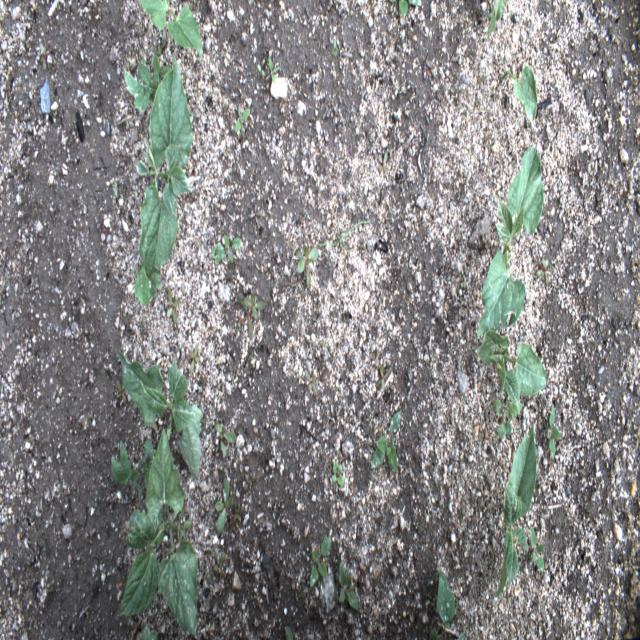crop: (114, 419, 198, 636), (132, 51, 198, 308), (478, 146, 544, 334), (115, 348, 204, 482), (497, 418, 538, 602), (475, 336, 551, 423), (138, 2, 204, 57), (500, 64, 539, 124)
weed: (122, 55, 169, 116), (371, 412, 404, 479), (109, 437, 143, 499), (320, 217, 370, 251), (436, 565, 458, 639), (291, 244, 322, 293), (237, 286, 264, 342), (309, 535, 334, 589), (336, 555, 358, 613), (215, 470, 235, 532), (212, 415, 239, 458), (481, 1, 509, 36), (387, 0, 425, 23), (223, 227, 245, 265), (545, 404, 561, 455), (531, 524, 547, 575), (164, 285, 181, 330), (232, 98, 250, 136), (468, 59, 490, 89), (187, 344, 204, 378), (266, 50, 283, 82), (329, 456, 346, 488), (535, 251, 549, 289), (304, 369, 322, 398), (329, 27, 344, 58), (372, 366, 392, 389), (213, 547, 226, 582), (495, 418, 515, 440), (116, 105, 132, 130), (432, 78, 450, 100), (116, 386, 130, 414), (316, 337, 332, 361), (142, 440, 154, 471), (373, 152, 388, 175), (424, 55, 438, 78), (247, 204, 263, 224), (505, 10, 523, 27), (211, 242, 223, 267), (240, 470, 252, 495), (28, 543, 40, 568), (77, 602, 93, 620), (40, 40, 49, 70), (0, 281, 8, 314), (283, 620, 297, 638), (256, 58, 268, 77), (138, 626, 160, 636), (322, 148, 331, 171), (238, 502, 245, 531), (37, 490, 44, 519), (91, 314, 100, 335), (156, 39, 170, 52), (112, 183, 120, 200), (221, 303, 229, 319), (428, 624, 438, 636), (428, 350, 438, 361), (457, 629, 468, 636)
